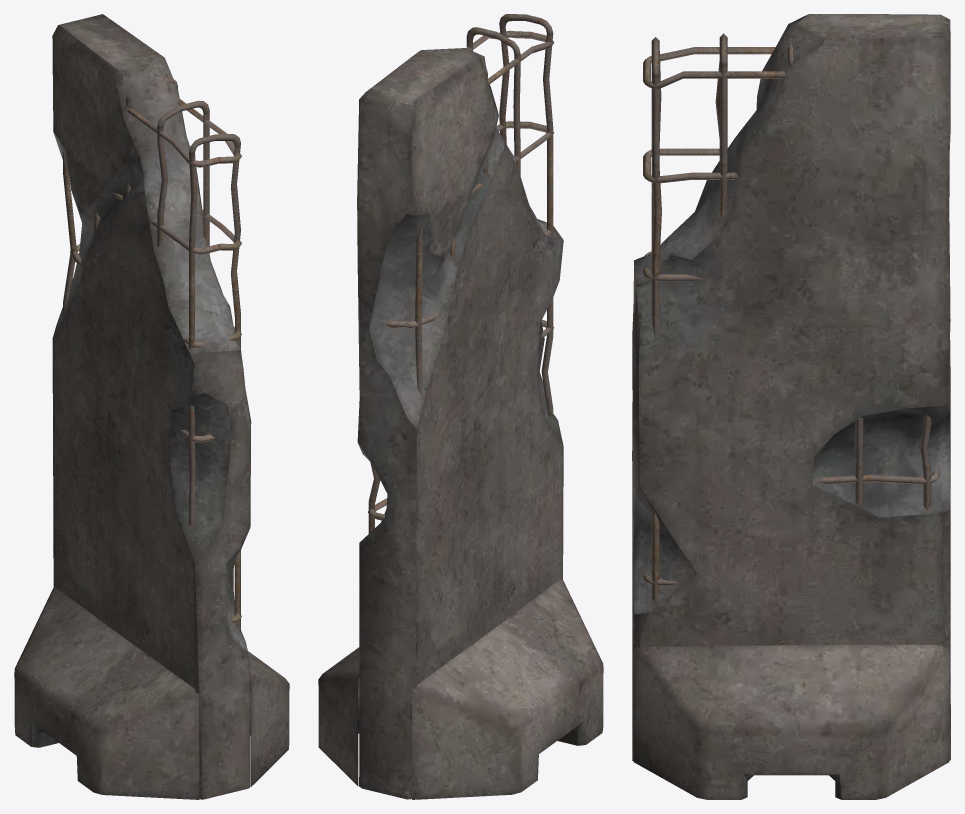
File: Wall_02.glb
The picture shows the model from 3 angles, left to right: view 1: azimuth 30°, elevation 25°; view 2: azimuth 150°, elevation 25°; view 3: azimuth 270°, elevation 25°; orthographic projection. The views are drawn at different scales.
Parts seen in each view (by area): view 1: Wall_02; view 2: Wall_02; view 3: Wall_02.
Part boxes in pixels (bbox=[...]): Wall_02: bbox=[14, 14, 289, 799]; Wall_02: bbox=[318, 14, 603, 799]; Wall_02: bbox=[632, 14, 950, 799].
Size of the model in its own units: 0.5788 by 1.9 by 0.76.
Materials: 1 (1 with a texture image).
